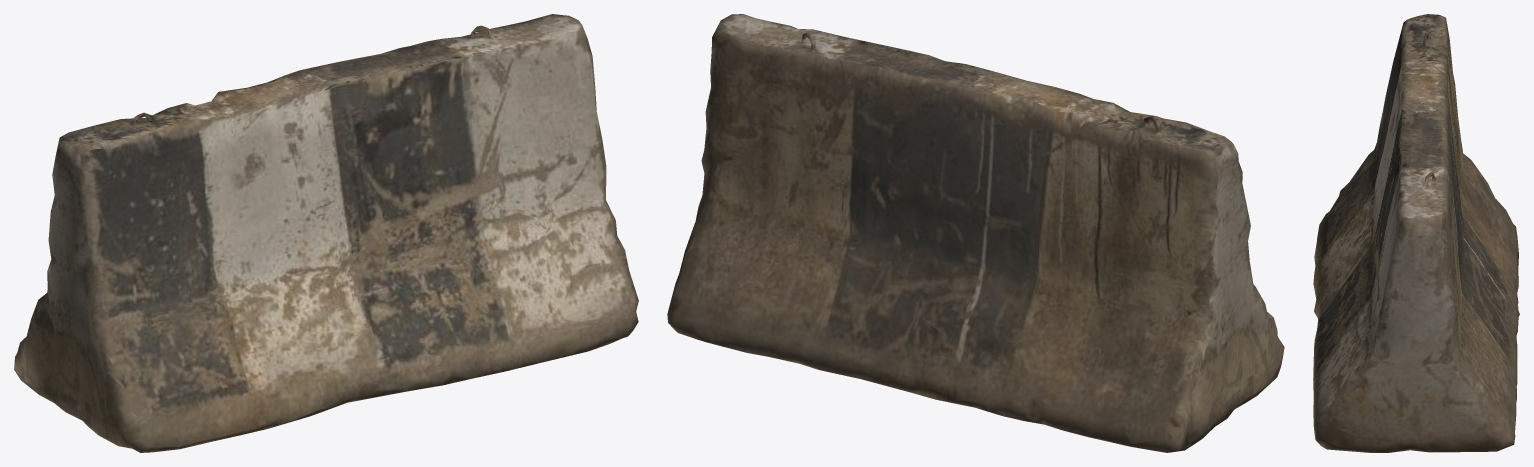
The model's file is barrier.glb.
3 renders of one model, left to right at view 1: azimuth 30°, elevation 25°; view 2: azimuth 150°, elevation 25°; view 3: azimuth 270°, elevation 25°, orthographic. The views are drawn at different scales.
Visible parts, largest first — view 1: concrete_road_barrier_LOD0; view 2: concrete_road_barrier_LOD0; view 3: concrete_road_barrier_LOD0.
Part boxes in pixels (x1,y1,x2,y2): concrete_road_barrier_LOD0: (14, 14, 638, 452); concrete_road_barrier_LOD0: (667, 14, 1284, 452); concrete_road_barrier_LOD0: (1313, 14, 1519, 452).
Bounding box in the file's own units: 1.54 × 0.8345 × 0.6354.
1 material, 1 textured.
